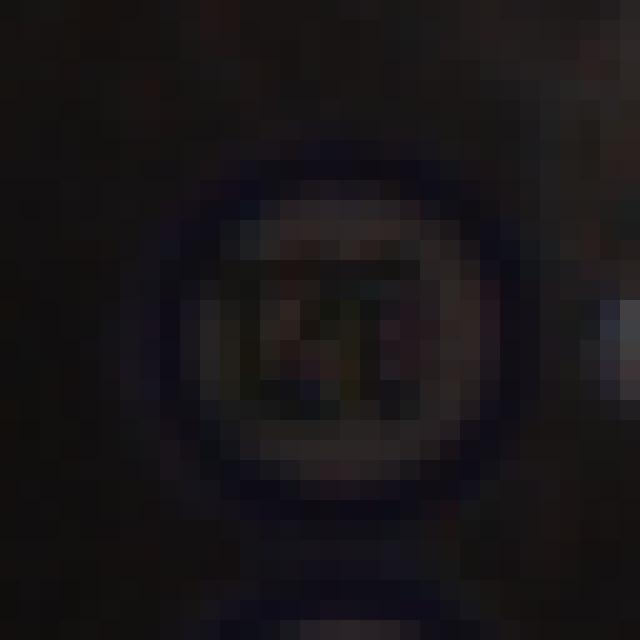SPEED LIMIT 120: (158, 169, 540, 507)
